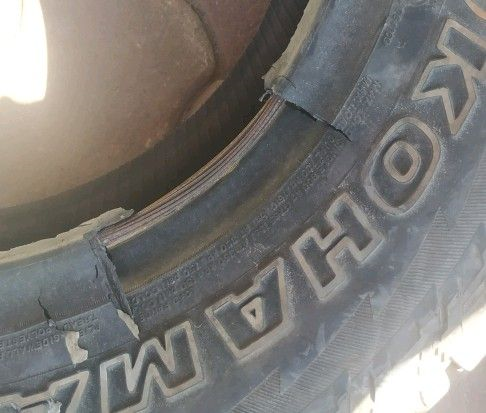bead_damage: (8, 55, 390, 371)
